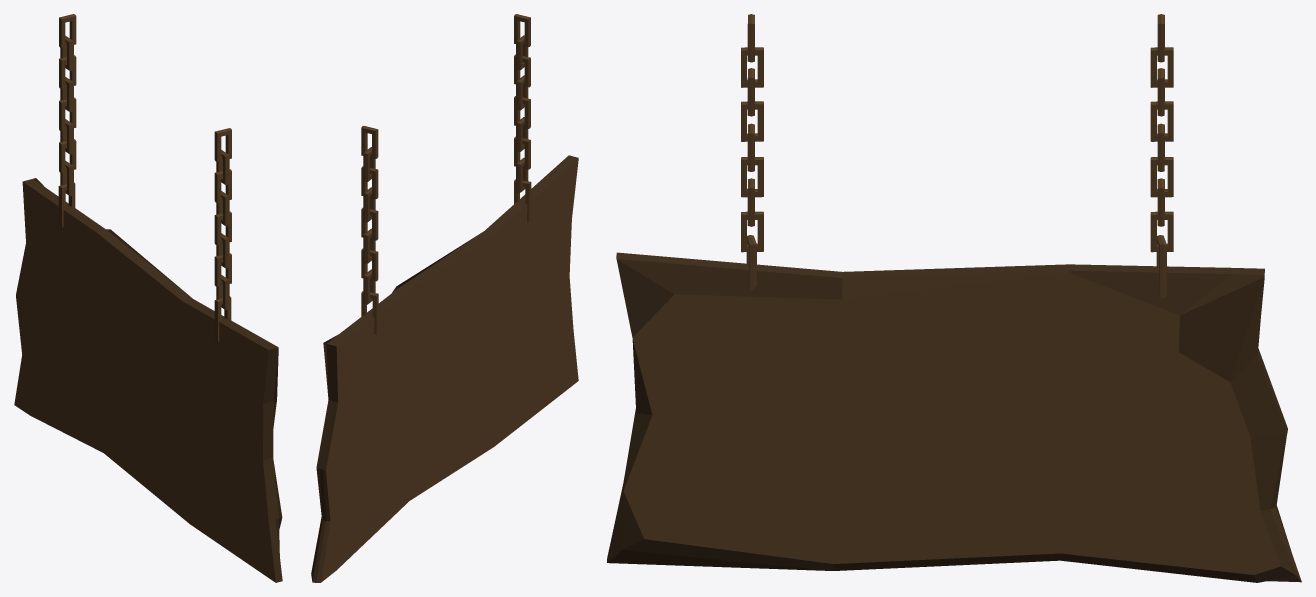
Rendered from Sign.fbx.
3 views of the same model, side by side, from view 1: azimuth 30°, elevation 25°; view 2: azimuth 150°, elevation 25°; view 3: azimuth 270°, elevation 25° (orthographic). The views are drawn at different scales.
Visible parts, largest first — view 1: Cube; view 2: Cube; view 3: Cube.
Part boxes in pixels (box(x1,y1,x2,y2)): Cube: box(14, 14, 282, 582); Cube: box(311, 14, 578, 582); Cube: box(607, 14, 1301, 582).
Size of the model in its own units: 29.09 by 603 by 678.
